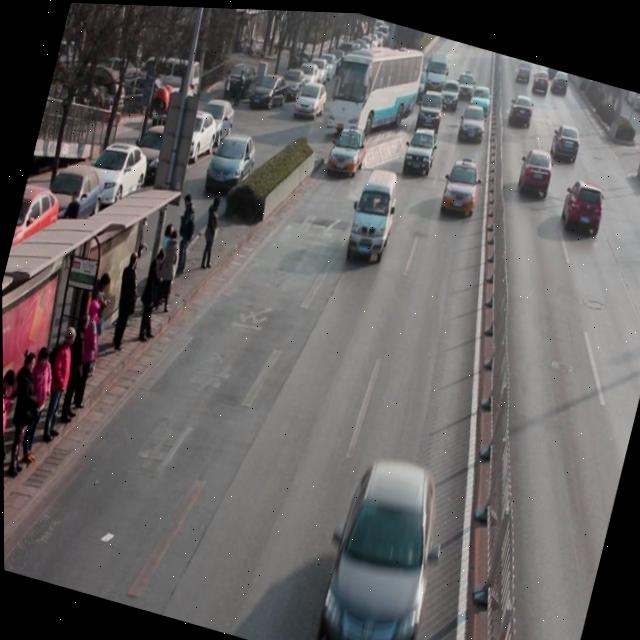car: (308, 448, 457, 640), (556, 172, 609, 238), (325, 117, 371, 181), (438, 153, 484, 216), (399, 119, 441, 177), (515, 141, 556, 197), (413, 83, 447, 134), (547, 118, 583, 163), (456, 99, 489, 143), (505, 87, 537, 128), (435, 73, 463, 112), (465, 81, 494, 116)
truck: (342, 161, 404, 265)
van: (320, 25, 427, 150)
